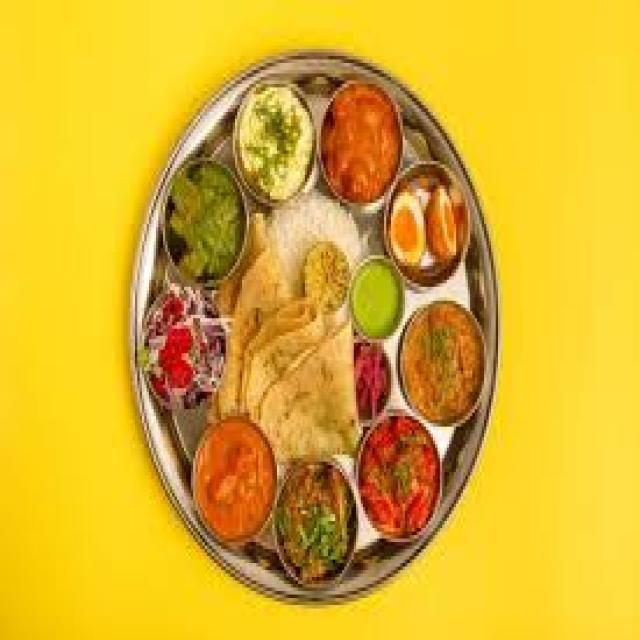pickle: (137, 282, 224, 411)
roti: (221, 231, 362, 458)
sambar-rasam: (399, 297, 489, 422)
sweet: (358, 419, 449, 539), (385, 169, 470, 292)
veg-fry: (354, 419, 446, 540)
